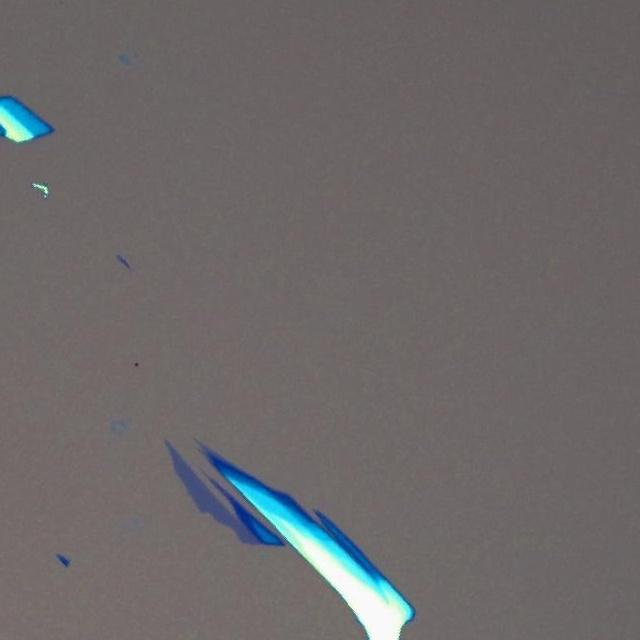monolayer-eWW4: (162, 436, 260, 548)
